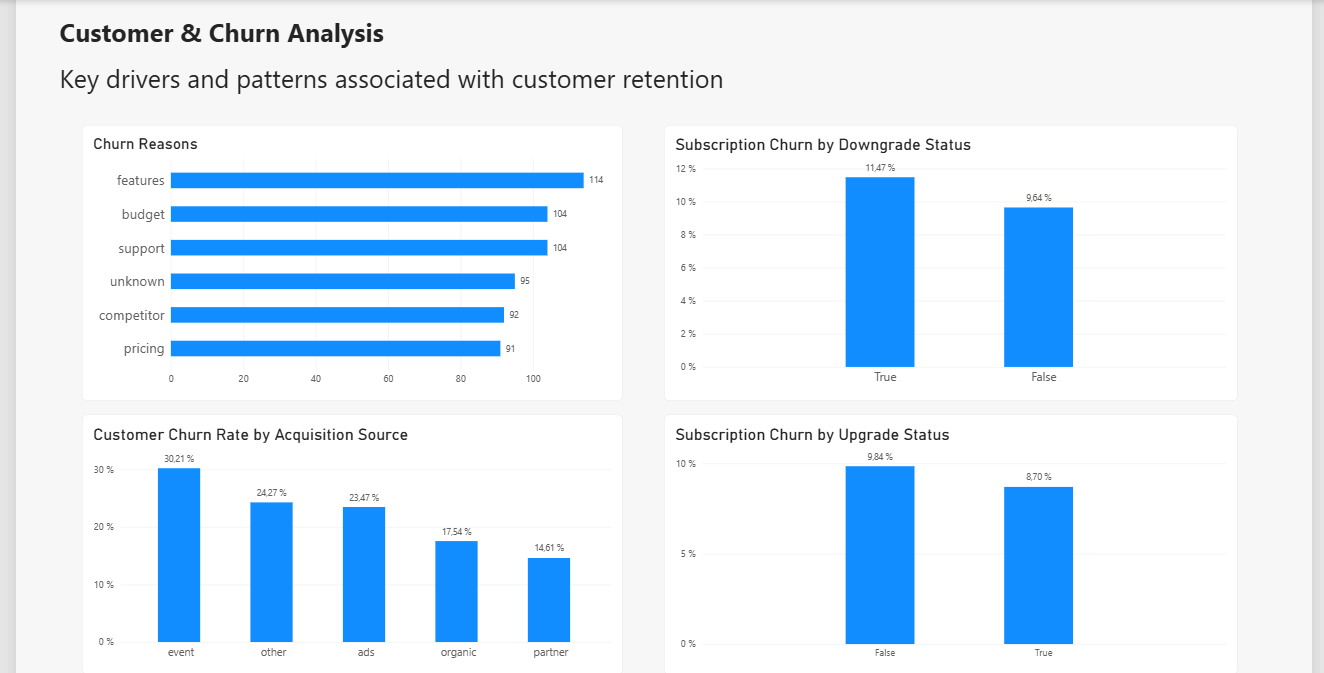

The page's visual inventory and layout, read from the dashboard file:
{"tool":"powerbi","page":{"name":"Customer & Churn Analysis","canvas":[1920,1080],"ordinal":1},"visuals":[{"type":"textbox","box":[65.4,0,1041.8,168.2],"z":0},{"type":"clusteredBarChart","title":"Churn Reasons","fields":{"Category":["ravenstack_churn_events.reason_code"],"Y":["CountNonNull(ravenstack_churn_events.account_id)"]},"box":[98.1,200.9,801.2,408.8],"z":1},{"type":"clusteredColumnChart","title":"Customer Churn Rate by Acquisition Source","fields":{"Category":["ravenstack_accounts.referral_source"],"Y":["ravenstack_accounts.Customer Churn Rate"]},"box":[98.1,628.3,801.2,385.4],"z":2},{"type":"clusteredColumnChart","title":"Subscription Churn by Downgrade Status","fields":{"Category":["ravenstack_subscriptions.downgrade_flag"],"Y":["ravenstack_subscriptions.Churn Rate"]},"box":[960,200.9,850.2,408.8],"z":4},{"type":"clusteredColumnChart","title":"Subscription Churn by Upgrade Status","fields":{"Category":["ravenstack_subscriptions.upgrade_flag"],"Y":["ravenstack_subscriptions.Churn Rate"]},"box":[960,628.3,850.2,385.4],"z":5}]}

Visuals, with their boxes on the page's 1920x1080 design canvas (x1, y1, x2, y2). These are canvas units, not pixel positions in the 1324x673 screenshot, which may show the page scaled, cropped or inside an application window:
textbox: box(65, 0, 1107, 168)
"Churn Reasons" clusteredBarChart: box(98, 201, 899, 610)
"Customer Churn Rate by Acquisition Source" clusteredColumnChart: box(98, 628, 899, 1014)
"Subscription Churn by Downgrade Status" clusteredColumnChart: box(960, 201, 1810, 610)
"Subscription Churn by Upgrade Status" clusteredColumnChart: box(960, 628, 1810, 1014)
